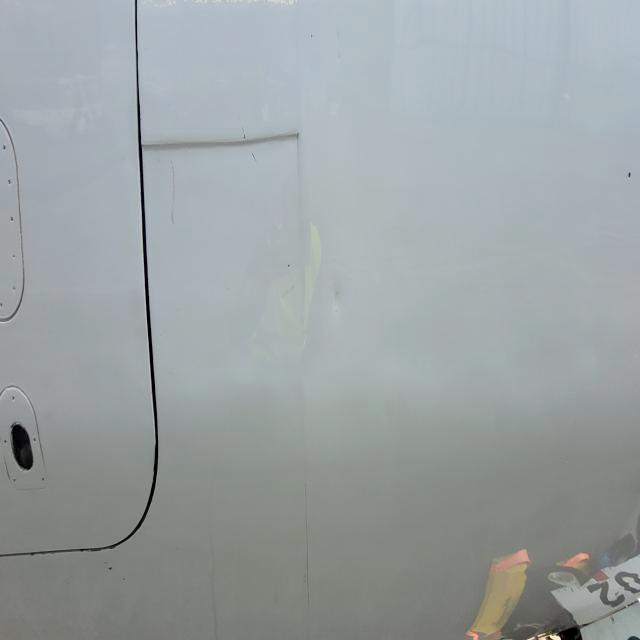dent: (323, 252, 349, 332)
